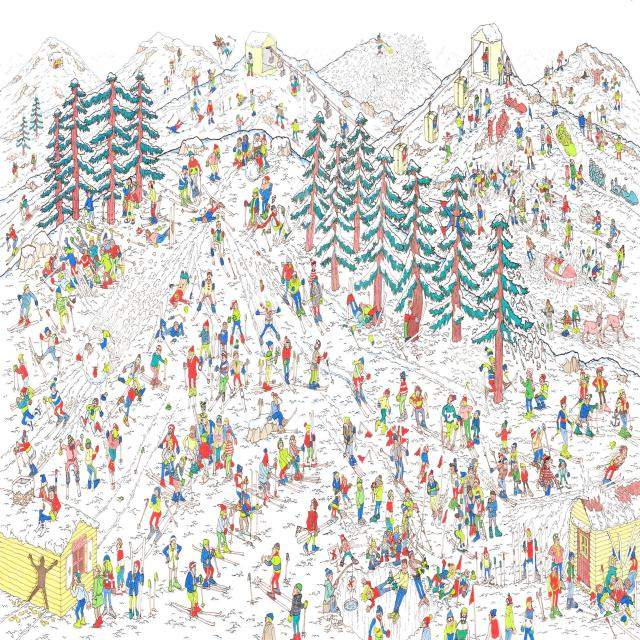waldo: (543, 453, 551, 469)
